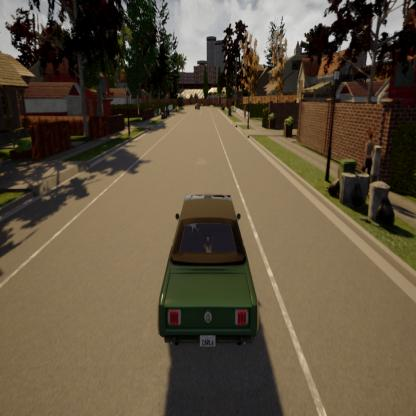Cars: (150, 171, 266, 368), (193, 100, 202, 113)
Pedestrian: (360, 125, 379, 190), (241, 103, 248, 127)
